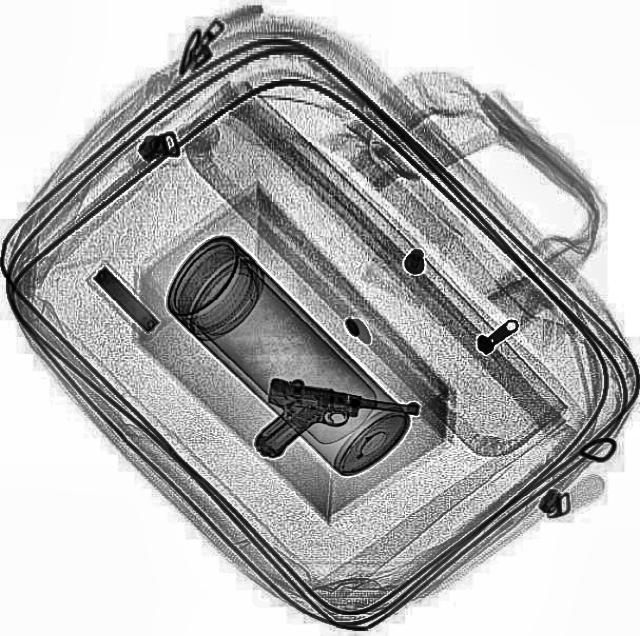Gun: (252, 373, 418, 481)
